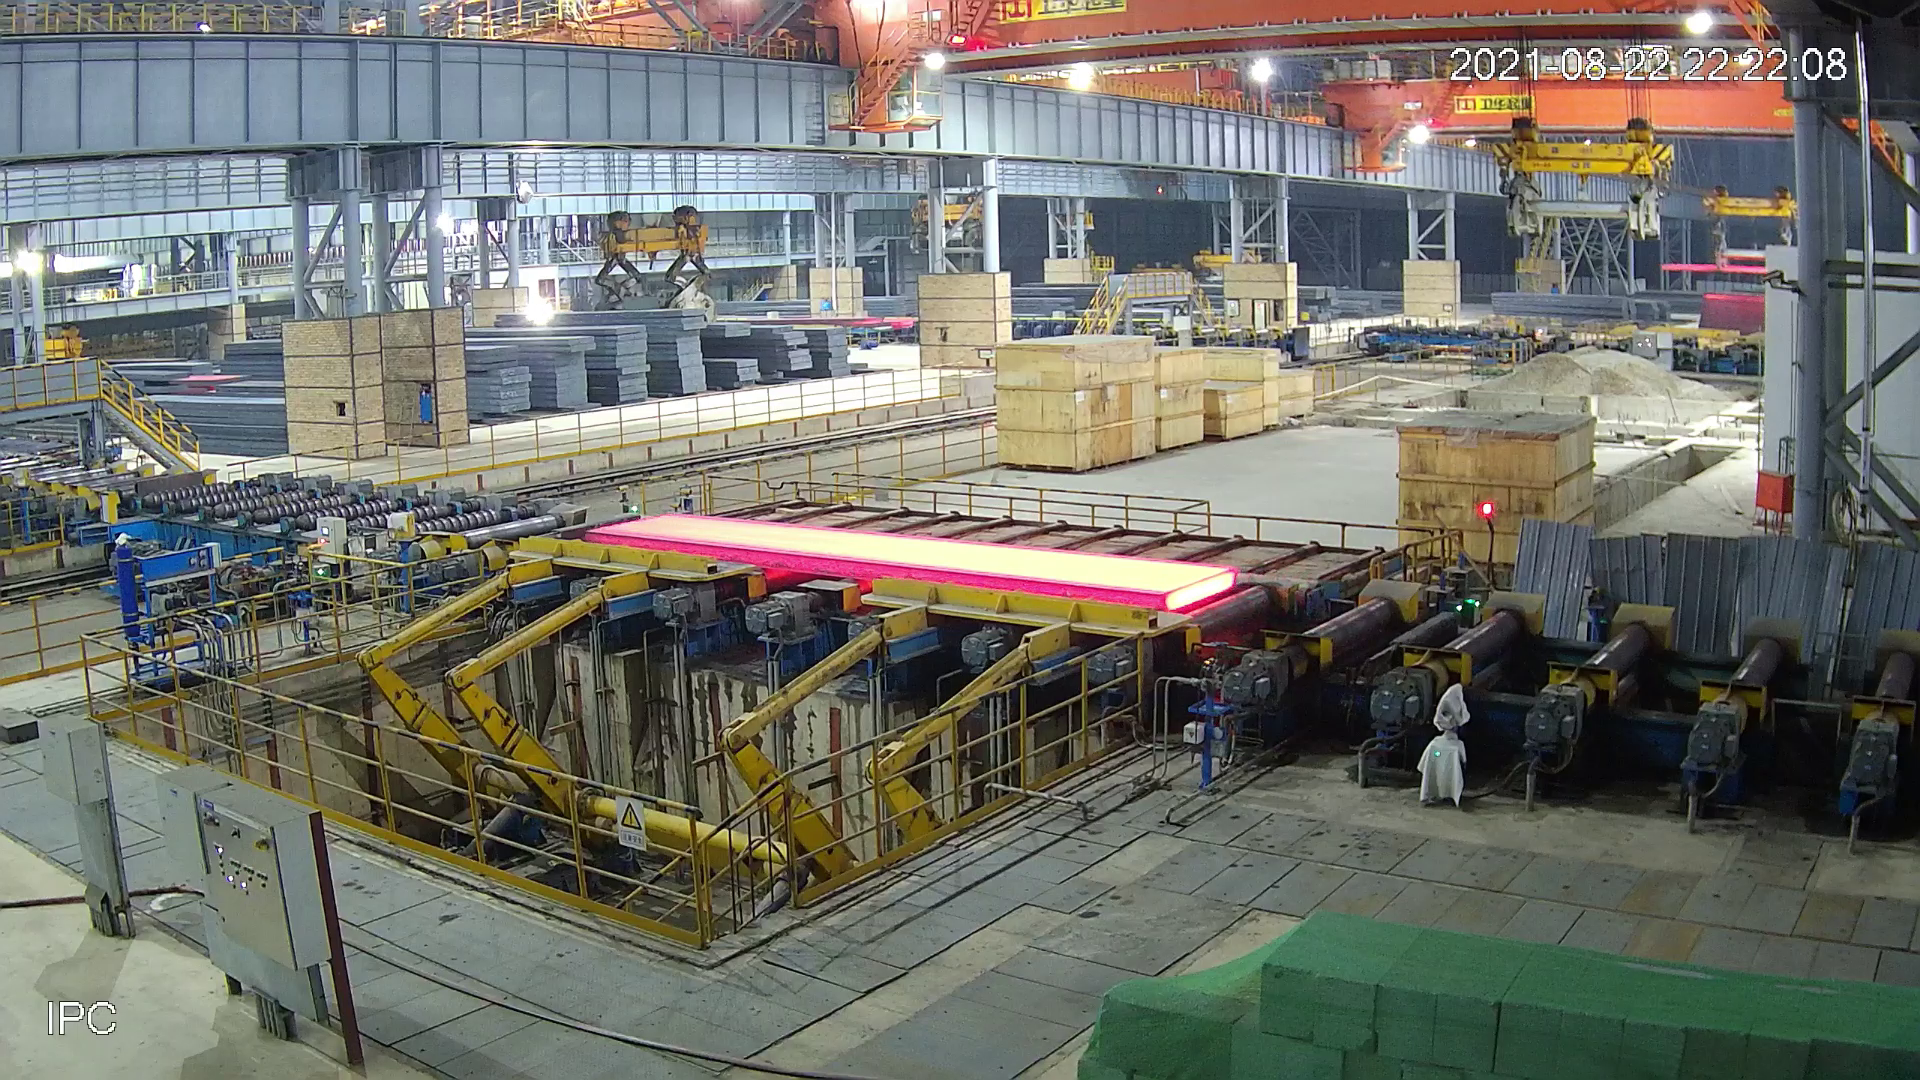slab: (584, 512, 1240, 612)
